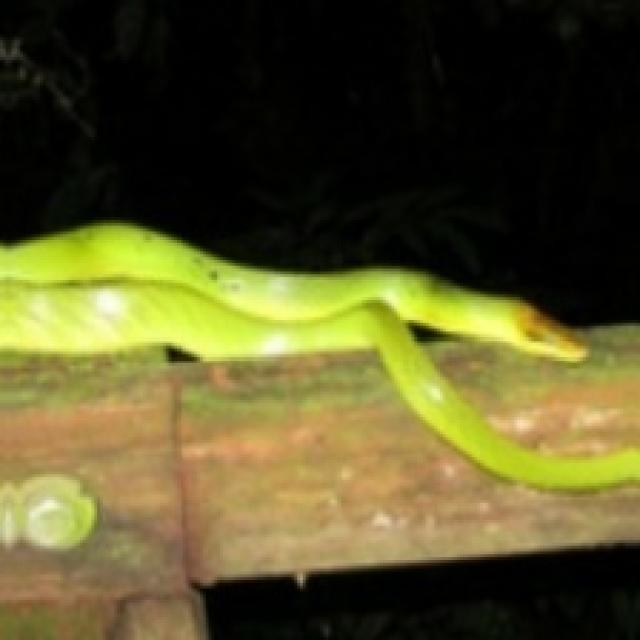red-tailed green ratsnake: (0, 223, 637, 489)
